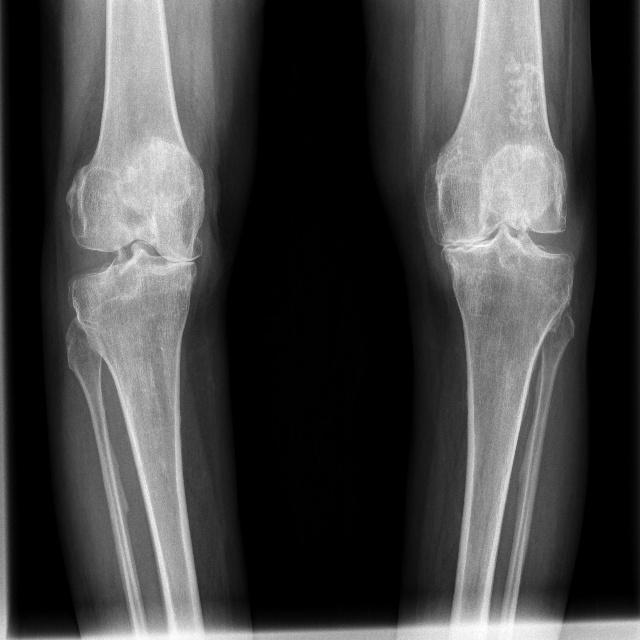Knee: (424, 173, 573, 308), (62, 187, 202, 319)
